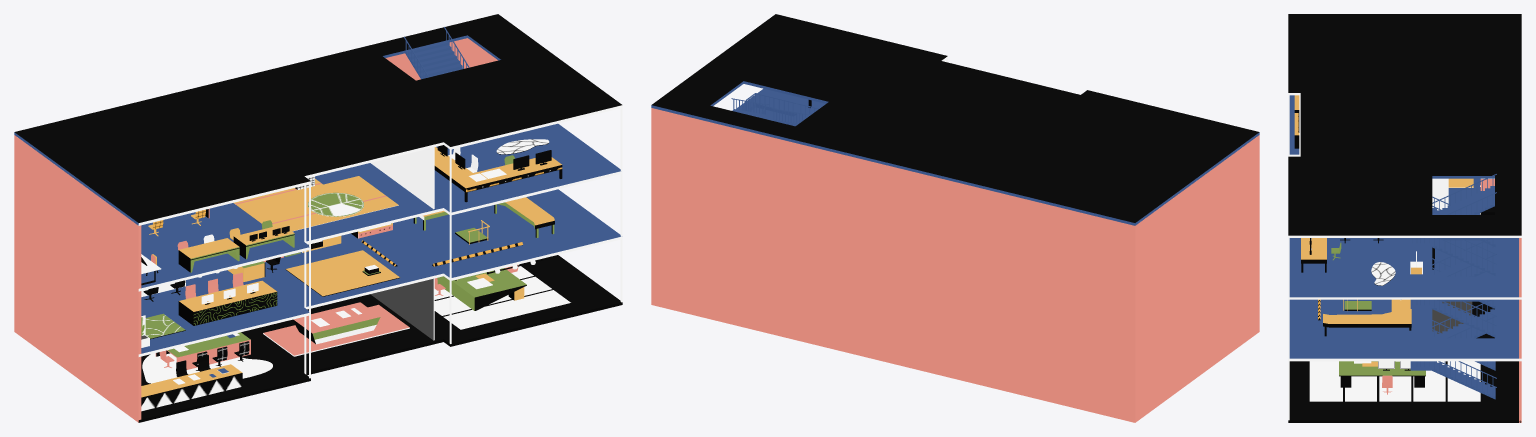
The picture shows the model from 3 angles, left to right: view 1: azimuth 30°, elevation 25°; view 2: azimuth 150°, elevation 25°; view 3: azimuth 270°, elevation 25°; orthographic projection. The views are drawn at different scales.
Visible parts, largest first — view 1: 右学校, 地板02_5_2, 地板02_1_2, 地板02_2, 立方体_7_2, 立方体_5_3, 地板02_5, 立方体_8_5, 立方体_1_6, 倒梯形桌子, 立方体_7_4, 地板02_2_2 (+9 smaller); view 2: 右学校, stairs2_2; view 3: 右学校, 地板02_1_2, stairs2_2, stairs2_1, stairs2, 地板02_6, 桌子01, 地板02_5, 立方体_8_5, 立方体_7_4, 立方体_1_6, 封顶_1_2 (+2 smaller).
Boxes of the visible parts, x1,y1,x2,y2 form: 右学校: (14, 14, 622, 422); 地板02_5_2: (233, 176, 398, 231); 地板02_1_2: (434, 264, 570, 330); 地板02_2: (285, 250, 400, 296); 立方体_7_2: (141, 364, 242, 411); 立方体_5_3: (178, 280, 277, 325); 地板02_5: (434, 147, 562, 202); 立方体_8_5: (370, 278, 434, 340); 立方体_1_6: (371, 147, 434, 209); 倒梯形桌子: (293, 302, 380, 344); 立方体_7_4: (304, 108, 622, 378); 地板02_2_2: (263, 304, 409, 356); 右学校: (651, 14, 1259, 422); stairs2_2: (731, 93, 819, 126); 右学校: (1288, 14, 1521, 422); 地板02_1_2: (1309, 361, 1480, 401); stairs2_2: (1410, 174, 1496, 275); stairs2_1: (1410, 299, 1496, 399); stairs2: (1410, 238, 1496, 337); 地板02_6: (1323, 299, 1411, 336); 桌子01: (1339, 361, 1425, 376); 地板02_5: (1301, 238, 1326, 272); 立方体_8_5: (1432, 301, 1472, 333); 立方体_7_4: (1288, 94, 1300, 420); 立方体_1_6: (1432, 178, 1448, 210); 封顶_1_2: (1371, 262, 1395, 285).
Bounding box in the file's own units: 2703 × 1138 × 1204.
